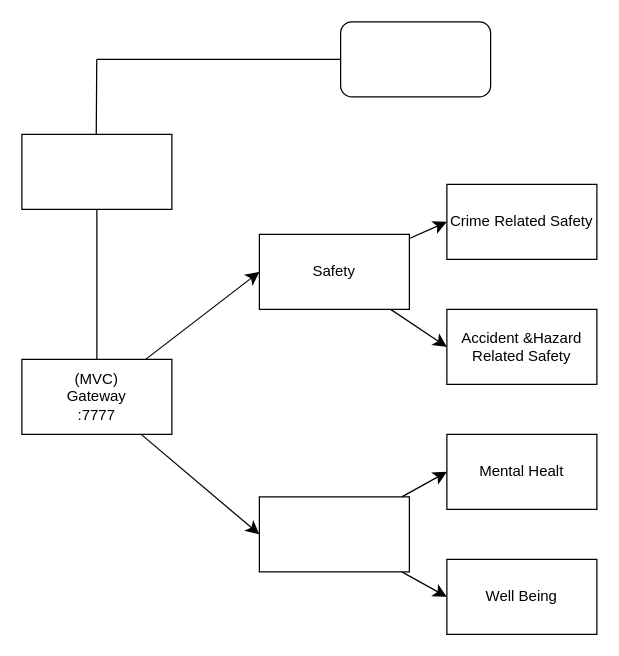
Some shapes in this 619 by 656 pixel diagram are drawn without their labels. The centre of each missing label's shape, as x and y in pixels:
".NET Identity" goes at pixel 415 59.
"Angular Application" goes at pixel 96 171.
"Health" goes at pixel 333 534.
